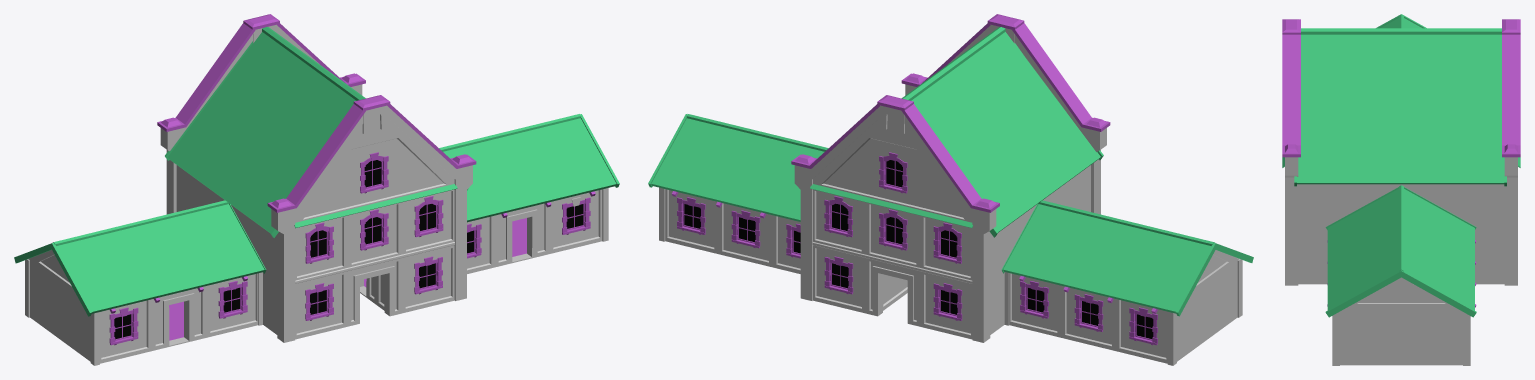
File: SM_administration_building.fbx
3 renders of one model, left to right at view 1: azimuth 30°, elevation 25°; view 2: azimuth 150°, elevation 25°; view 3: azimuth 270°, elevation 25°, orthographic.
Parts seen in each view (by area): view 1: Cube_4, Cube_9, Cube_13, Cube_8; view 2: Cube_4, Cube_9, Cube_13, Cube_8; view 3: Cube_9, Cube_4, Cube_8, Cube_13.
Boxes of the visible parts, x1,y1,x2,y2 form: Cube_4: (25,14,608,365); Cube_9: (165,27,468,237); Cube_13: (14,200,266,316); Cube_8: (439,114,619,222); Cube_4: (659,14,1242,365); Cube_9: (901,27,1103,237); Cube_13: (1001,200,1253,316); Cube_8: (648,114,828,221); Cube_9: (1294,28,1506,186); Cube_4: (1282,19,1520,365); Cube_8: (1325,185,1476,317); Cube_13: (1376,14,1426,28).
Bounding box in the file's own units: 2916 × 1145 × 1143.
